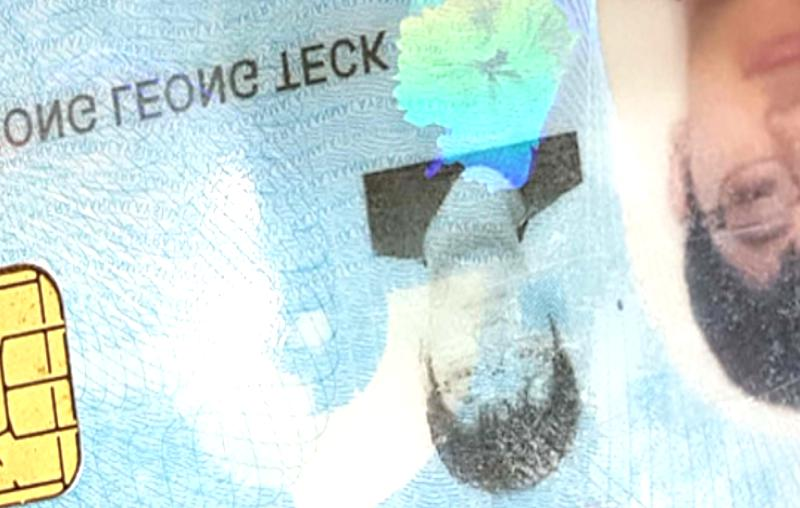hologramB: (402, 1, 543, 140)
